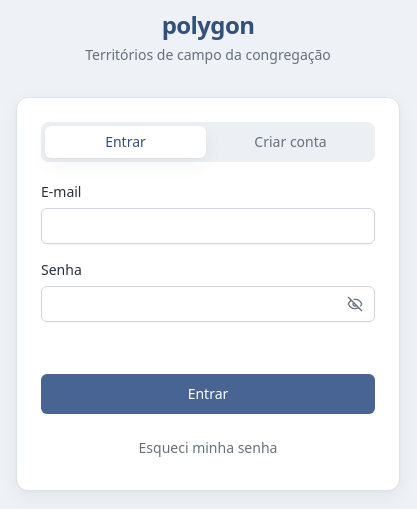
Login › pede senha mais longa antes de chamar o Supabase
Click the tab "Criar conta" at x=290, y=142, box x1=210 y1=126 x2=371 y2=158
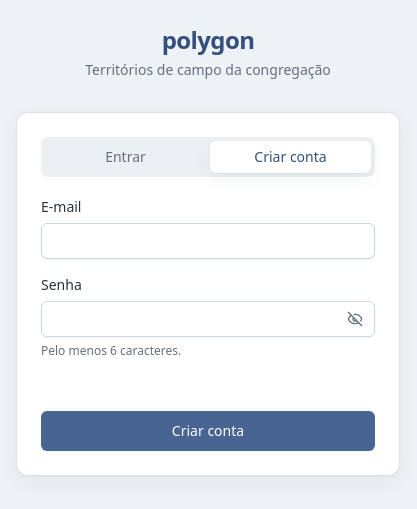
Type "ana@exemplo.com" into the field labelled "E-mail" at x=208, y=241, box x1=41 y1=223 x2=375 y2=259
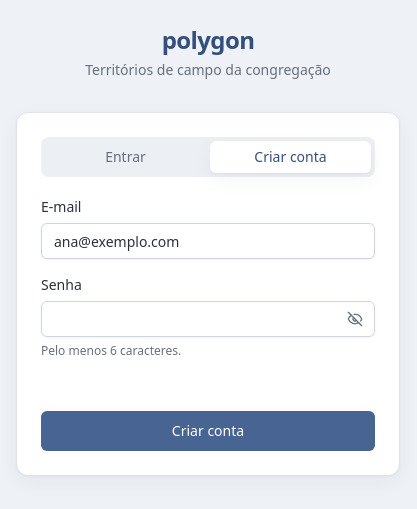
Type "123" into the password field labelled "Senha" at x=208, y=319, box x1=41 y1=301 x2=375 y2=337
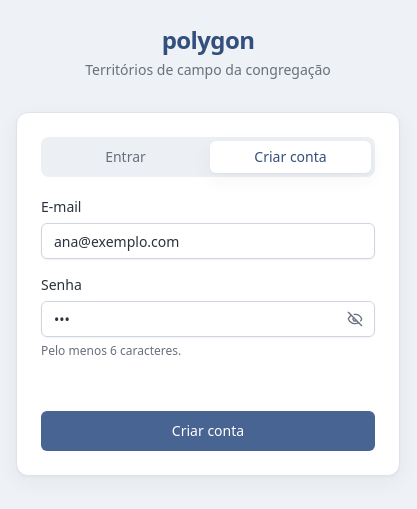
Click the button "Criar conta" at x=208, y=431, box x1=41 y1=411 x2=375 y2=451
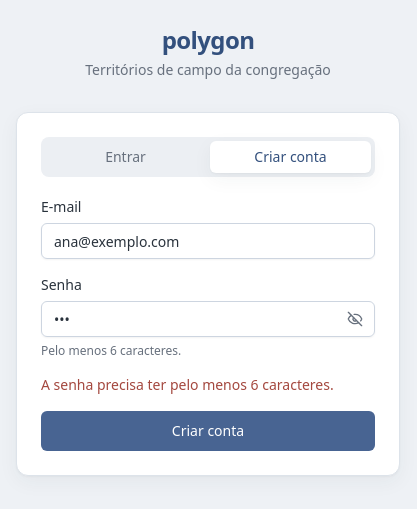
Now the message shows "6 caracteres", box x1=41 y1=375 x2=334 y2=394
